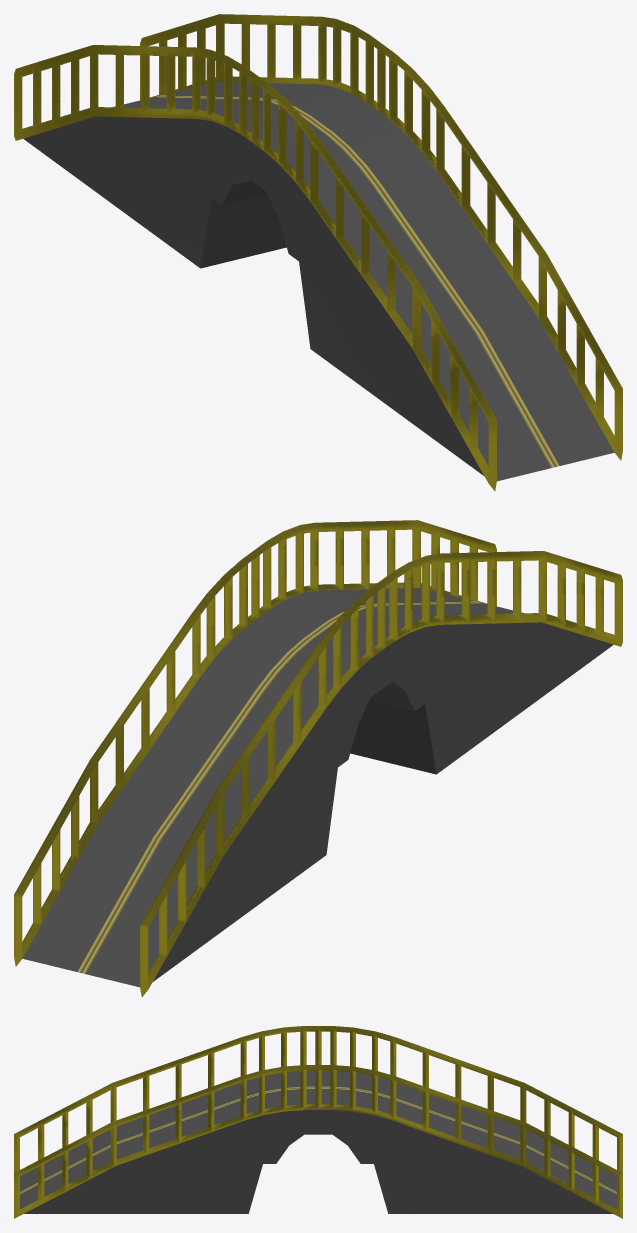
The model's file is ramp.glb.
The picture shows the model from 3 angles, top to bottom: view 1: azimuth 30°, elevation 25°; view 2: azimuth 150°, elevation 25°; view 3: azimuth 270°, elevation 25°; orthographic projection. The views are drawn at different scales.
Visible parts, largest first — view 1: Plane.002, Plane.026; view 2: Plane.002, Plane.026; view 3: Plane.002, Plane.026.
Boxes of the visible parts, x1,y1,x2,y2 form: Plane.002: (23,82,614,481); Plane.026: (14,14,622,491); Plane.002: (22,588,613,987); Plane.026: (14,520,622,997); Plane.002: (20,1070,616,1213); Plane.026: (14,1026,622,1218).
Bounding box in the file's own units: 16 × 27.54 × 98.78.
